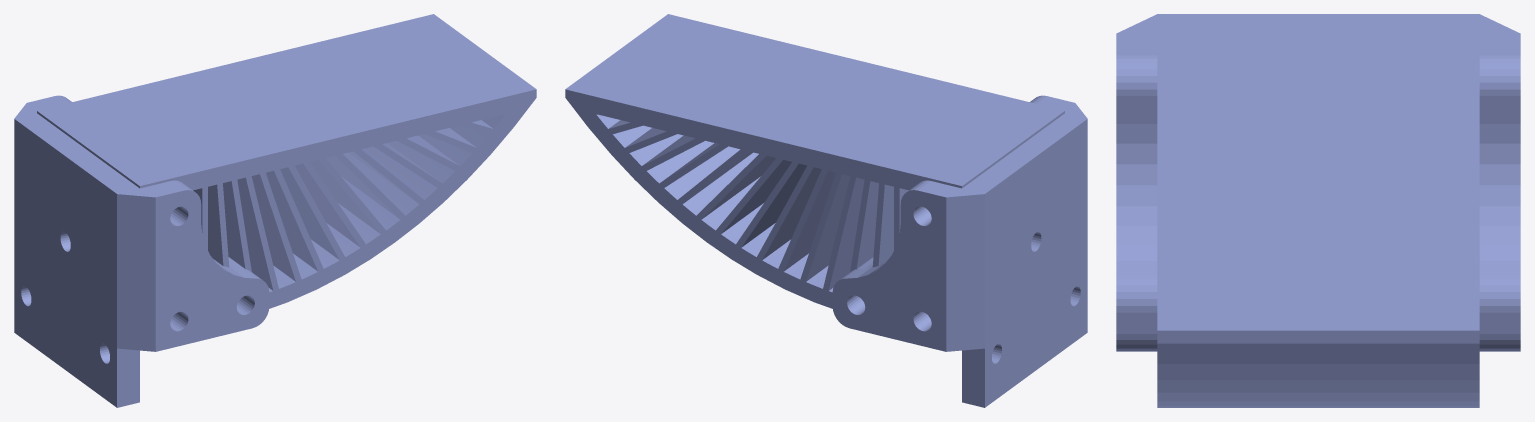
File: finger_right_visual.obj
3 views of the same model, side by side, from view 1: azimuth 30°, elevation 25°; view 2: azimuth 150°, elevation 25°; view 3: azimuth 270°, elevation 25° (orthographic). The views are drawn at different scales.
Bounding box in the file's own units: 0.0739 × 0.0364 × 0.0394.
